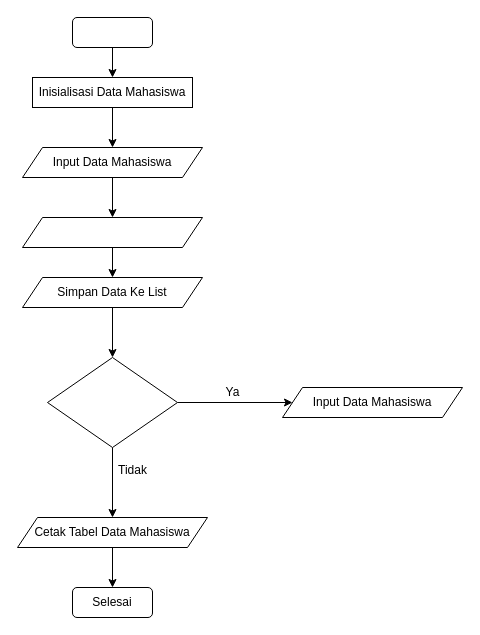
Some shapes in this 480 by 635 pixel diagram are drawn without their labels. Each missing label, with the centre of its shape:
"Hitung Nilai Akhir" belongs at point 112,232.
"Mulai" belongs at point 112,32.
"Tambah Data Lagi?" belongs at point 112,402.
